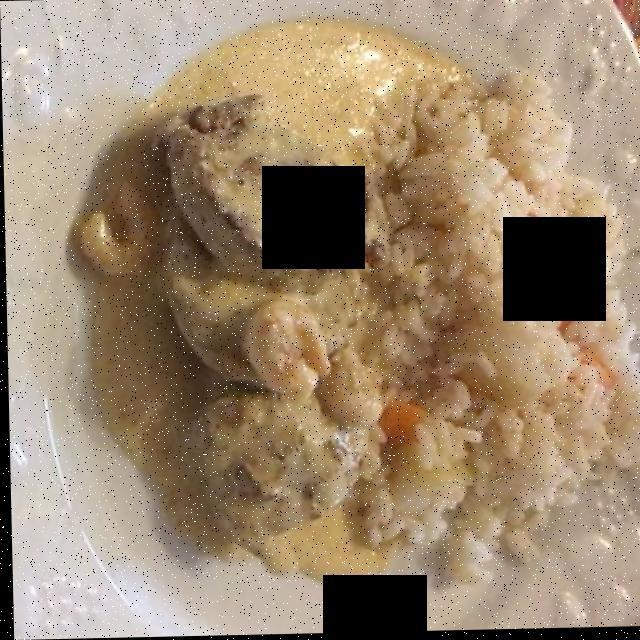rice: (379, 65, 636, 577)
sauce: (108, 30, 457, 575)
